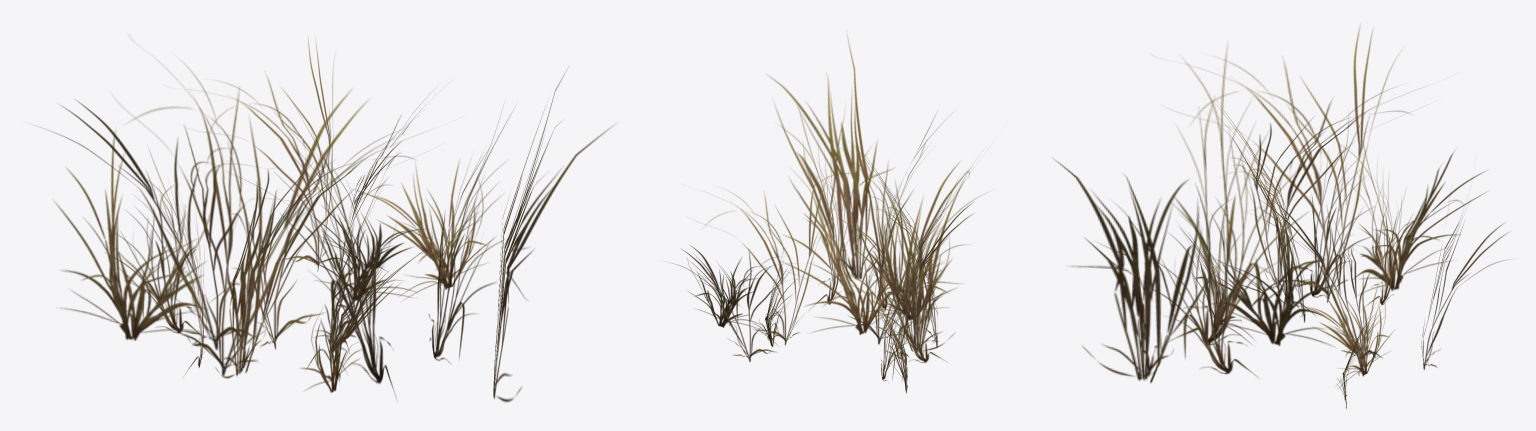
The model's file is grass-patch-b.glb.
3 renders of one model, left to right at view 1: azimuth 30°, elevation 25°; view 2: azimuth 150°, elevation 25°; view 3: azimuth 270°, elevation 25°, orthographic. The views are drawn at different scales.
Parts seen in each view (by area): view 1: grasspatch2; view 2: grasspatch2; view 3: grasspatch2.
Boxes of the visible parts, x1,y1,x2,y2 form: grasspatch2: (43, 38, 613, 402); grasspatch2: (672, 35, 983, 393); grasspatch2: (1053, 25, 1508, 408).
Bounding box in the file's own units: 161 × 120 × 170.
Materials: 1 (1 with a texture image).
